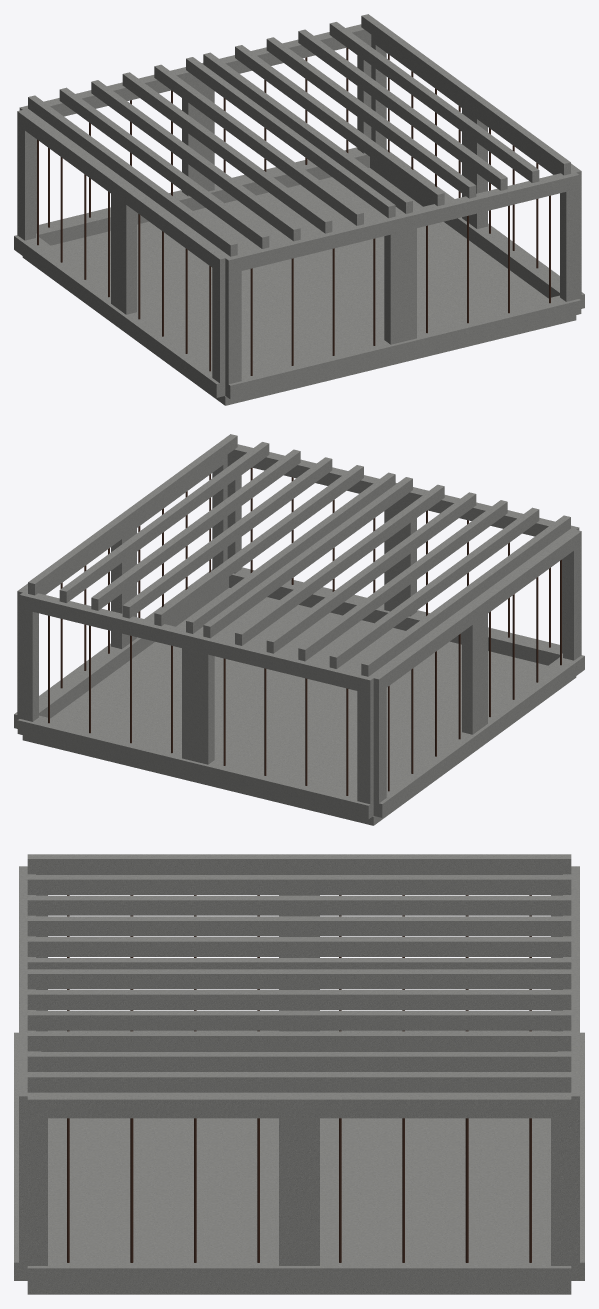
Rendered from house_2.glb.
3 renders of one model, top to bottom at view 1: azimuth 30°, elevation 25°; view 2: azimuth 150°, elevation 25°; view 3: azimuth 270°, elevation 25°, orthographic. The views are drawn at different scales.
Visible parts, largest first — view 1: Cube.002, Cube, Cube.001, Cube.003, Cube.004, Cube.008, Cube.007, Cube.011, Cube.020, Cube.024, Cube.023, Cube.027 (+45 smaller); view 2: Cube.003, Cube.001, Cube, Cube.002, Cube.012, Cube.016, Cube.015, Cube.019, Cube.024, Cube.020, Cube.027, Cube.023 (+45 smaller); view 3: Cube.002, Cube.003, Cube, Cube.001, Cube.028, Cube.032, Cube.031, Cube.035, Cube.036, Cube.038, Cube.039, Cube.048 (+38 smaller).
Boxes of the visible parts, x1=… form: Cube.002: x1=300, y1=239, x2=576, y2=362; Cube: x1=124, y1=280, x2=400, y2=405; Cube.001: x1=22, y1=208, x2=298, y2=331; Cube.003: x1=203, y1=168, x2=466, y2=279; Cube.004: x1=225, y1=338, x2=405, y2=399; Cube.008: x1=404, y1=295, x2=581, y2=356; Cube.007: x1=223, y1=213, x2=403, y2=273; Cube.011: x1=398, y1=170, x2=579, y2=231; Cube.020: x1=115, y1=309, x2=225, y2=397; Cube.024: x1=14, y1=235, x2=117, y2=323; Cube.023: x1=118, y1=183, x2=228, y2=272; Cube.027: x1=17, y1=108, x2=128, y2=198; Cube.003: x1=22, y1=659, x2=298, y2=782; Cube.001: x1=198, y1=700, x2=474, y2=825; Cube: x1=300, y1=628, x2=576, y2=751; Cube.002: x1=132, y1=588, x2=395, y2=699; Cube.012: x1=193, y1=758, x2=373, y2=819; Cube.016: x1=17, y1=715, x2=194, y2=776; Cube.015: x1=195, y1=633, x2=376, y2=693; Cube.019: x1=19, y1=590, x2=200, y2=651; Cube.024: x1=373, y1=729, x2=483, y2=817; Cube.020: x1=481, y1=655, x2=584, y2=743; Cube.027: x1=369, y1=603, x2=480, y2=692; Cube.023: x1=470, y1=528, x2=581, y2=618; Cube.002: x1=27, y1=1167, x2=299, y2=1294; Cube.003: x1=299, y1=1167, x2=571, y2=1294; Cube: x1=41, y1=1072, x2=299, y2=1167; Cube.001: x1=299, y1=1072, x2=557, y2=1167; Cube.028: x1=27, y1=1256, x2=299, y2=1286; Cube.032: x1=299, y1=1256, x2=571, y2=1286; Cube.031: x1=27, y1=1092, x2=299, y2=1118; Cube.035: x1=299, y1=1092, x2=571, y2=1118; Cube.036: x1=27, y1=854, x2=299, y2=874; Cube.038: x1=27, y1=895, x2=299, y2=915; Cube.039: x1=27, y1=916, x2=299, y2=936; Cube.048: x1=27, y1=969, x2=299, y2=989.
Bounding box in the file's own units: 8.4 × 3.47 × 8.4.
24 materials, 24 textured.
